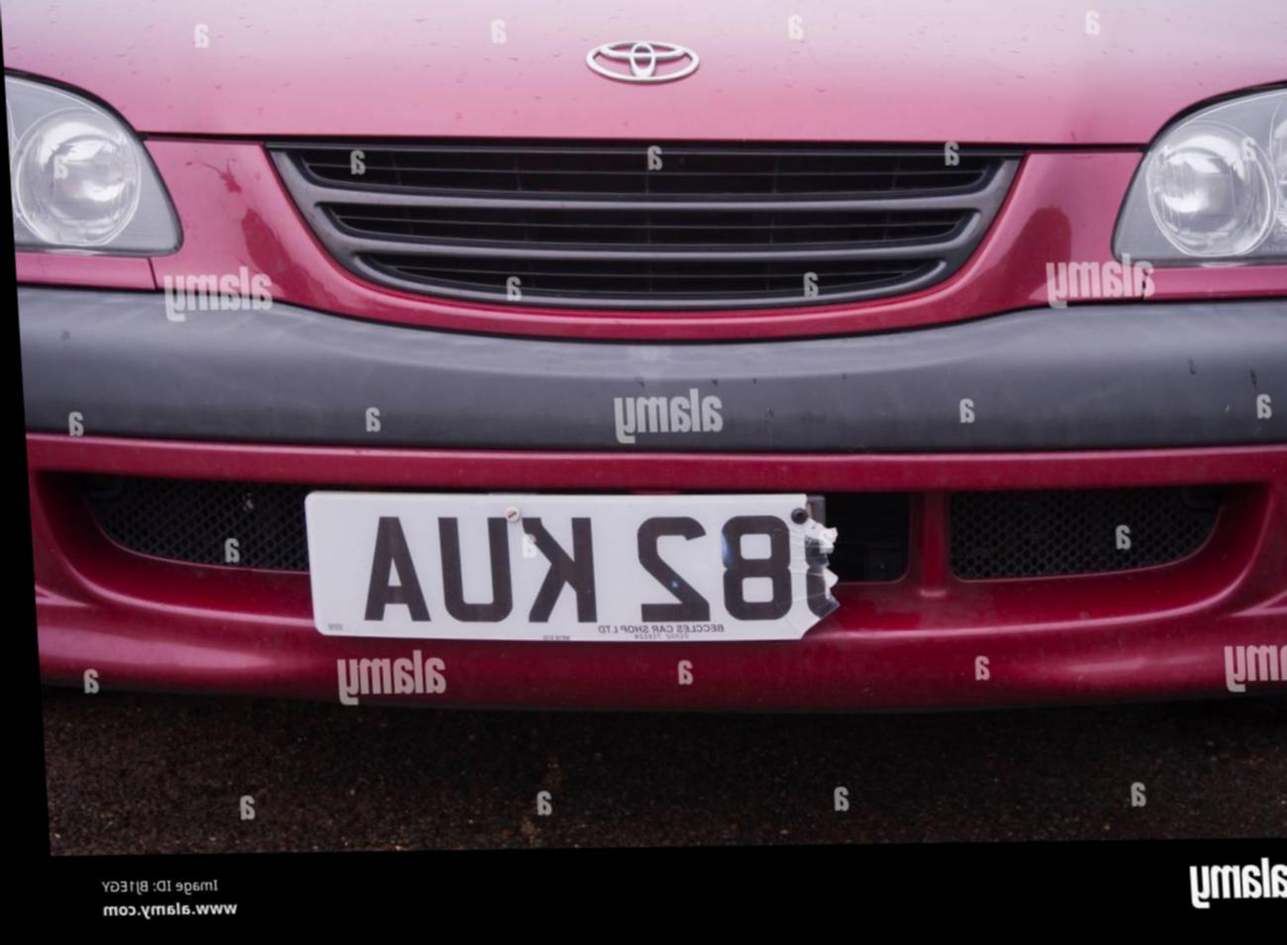License_Plate: (289, 477, 848, 649)
